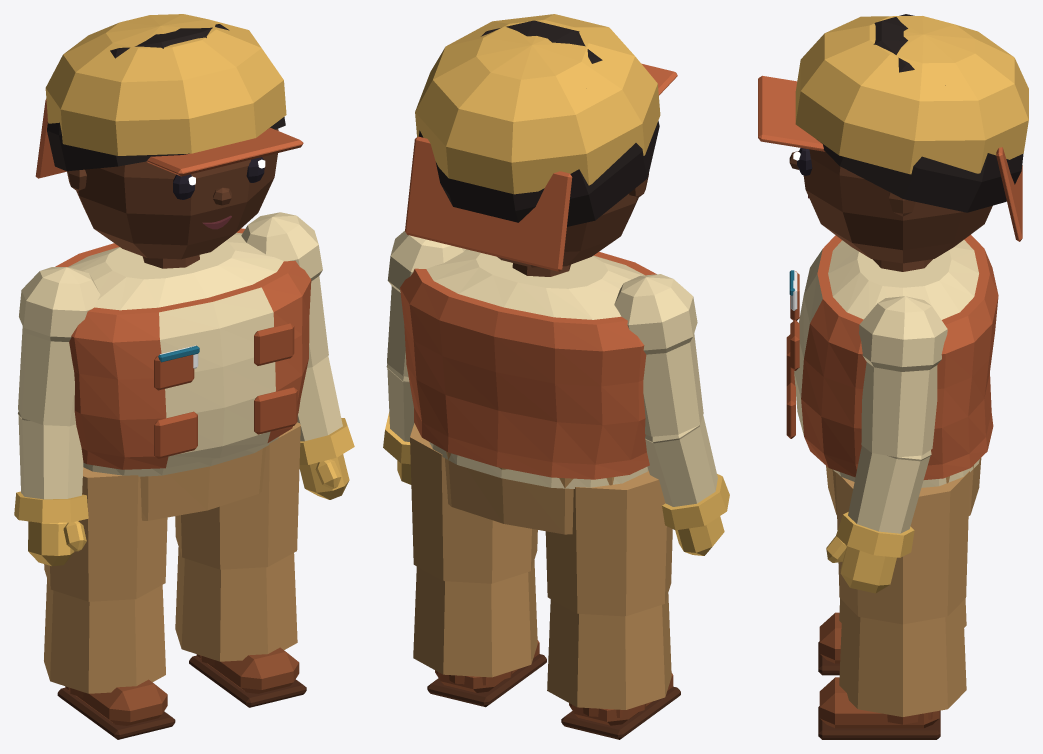
The model's file is auf_dun.glb.
3 renders of one model, left to right at view 1: azimuth 30°, elevation 25°; view 2: azimuth 150°, elevation 25°; view 3: azimuth 270°, elevation 25°, orthographic.
Parts seen in each view (by area): view 1: weste, kopfbedeckung, bein_r, bein_l, arm_r, kopf, torso, arm_l, taschen, becken, schuh_l, schuh_r (+4 smaller); view 2: kopfbedeckung, weste, bein_r, bein_l, arm_r, torso, haare, becken, arm_l, kopf, schuh_r, schuh_l (+1 smaller); view 3: kopfbedeckung, bein_l, weste, arm_l, kopf, torso, haare, schuh_l, hand_l, taschen, schuh_r, becken (+2 smaller).
Boxes of the visible parts, <box> form: weste: <box>55,228,311,469</box>; kopfbedeckung: <box>35,14,303,178</box>; bein_r: <box>44,467,167,693</box>; bein_l: <box>175,422,300,661</box>; arm_r: <box>14,267,100,523</box>; kopf: <box>67,129,278,259</box>; torso: <box>68,232,283,476</box>; arm_l: <box>241,212,354,464</box>; taschen: <box>154,323,297,458</box>; becken: <box>140,447,266,520</box>; schuh_l: <box>189,647,306,707</box>; schuh_r: <box>57,679,175,739</box>; kopfbedeckung: <box>405,14,677,271</box>; weste: <box>400,251,656,479</box>; bein_r: <box>545,470,672,709</box>; bein_l: <box>410,423,537,677</box>; arm_r: <box>614,274,729,530</box>; torso: <box>426,249,648,488</box>; haare: <box>418,20,659,226</box>; becken: <box>445,451,614,534</box>; arm_l: <box>383,231,465,464</box>; kopf: <box>497,173,648,267</box>; schuh_r: <box>561,673,680,739</box>; schuh_l: <box>427,640,546,707</box>; kopfbedeckung: <box>758,16,1028,241</box>; bein_l: <box>835,471,969,716</box>; weste: <box>794,234,998,479</box>; arm_l: <box>836,296,947,557</box>; kopf: <box>803,149,992,263</box>; torso: <box>828,240,979,487</box>; haare: <box>820,14,1023,212</box>; schuh_l: <box>818,677,940,739</box>; hand_l: <box>826,536,896,593</box>; taschen: <box>786,271,799,438</box>; schuh_r: <box>818,612,841,675</box>; becken: <box>826,458,981,515</box>.
Bounding box in the file's own units: 0.0124 × 0.0234 × 0.00866.
